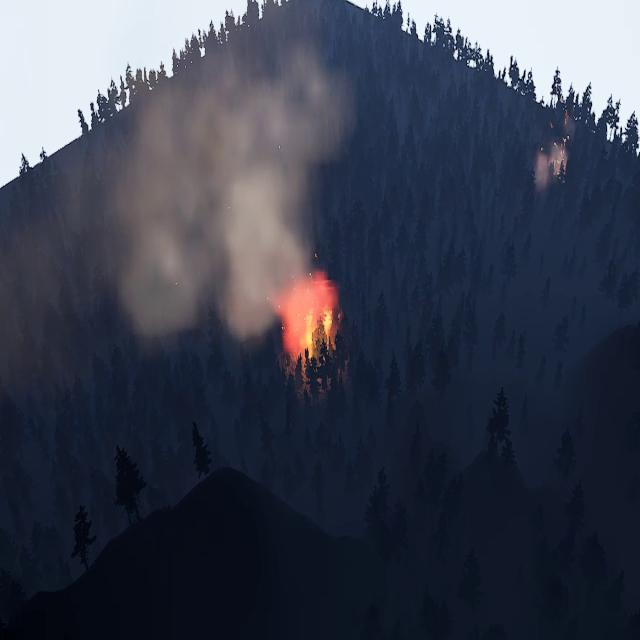fire: (271, 270, 339, 382)
smoke: (12, 38, 352, 352), (533, 107, 577, 201)
